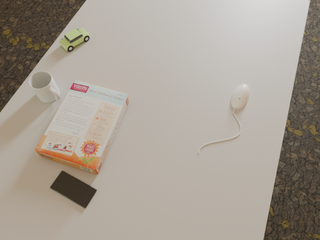box: (35, 80, 129, 174)
cup: (29, 71, 60, 103)
mouse: (231, 84, 249, 109)
phone: (50, 171, 97, 208)
toy_car: (59, 28, 89, 51)
